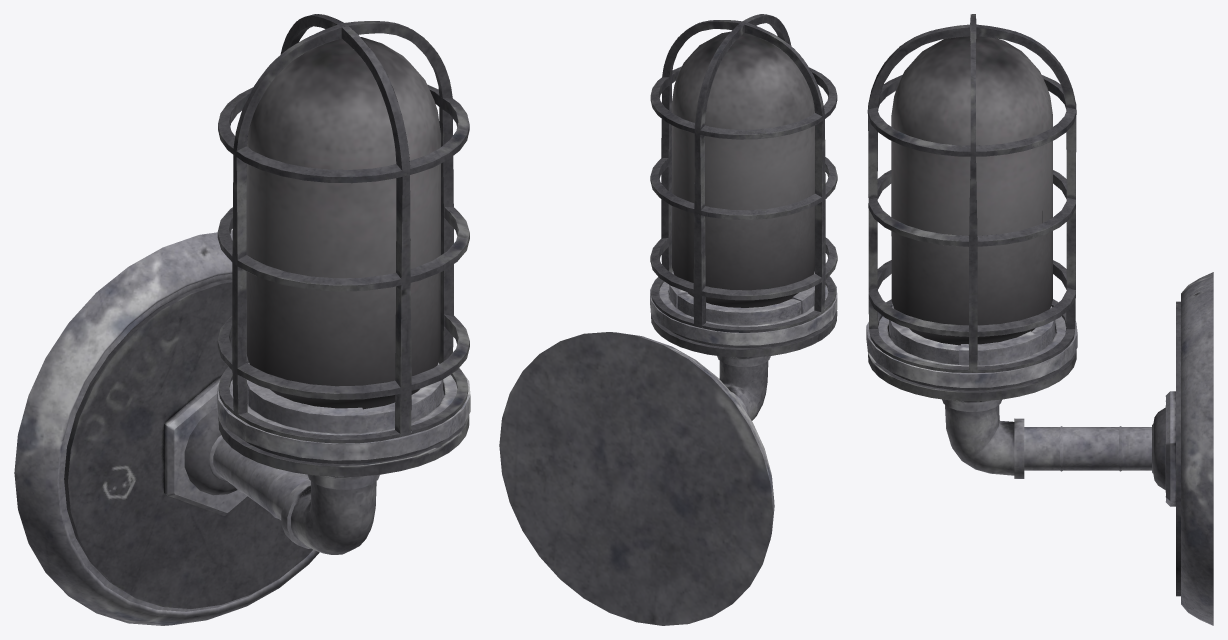
The model's file is industrial_caged_sconce.glb.
The picture shows the model from 3 angles, left to right: view 1: azimuth 30°, elevation 25°; view 2: azimuth 150°, elevation 25°; view 3: azimuth 270°, elevation 25°; orthographic projection. The views are drawn at different scales.
Parts seen in each view (by area): view 1: industrial_caged_sconce; view 2: industrial_caged_sconce; view 3: industrial_caged_sconce.
Boxes of the visible parts, box(x1,y1,x2,y2) form: industrial_caged_sconce: box(14, 14, 470, 625); industrial_caged_sconce: box(499, 14, 837, 625); industrial_caged_sconce: box(866, 14, 1213, 625).
Size of the model in its own units: 0.2102 by 0.3821 by 0.2059.
1 material, 1 textured.
